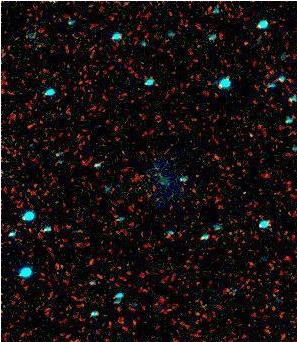star: (240, 118, 270, 148)
